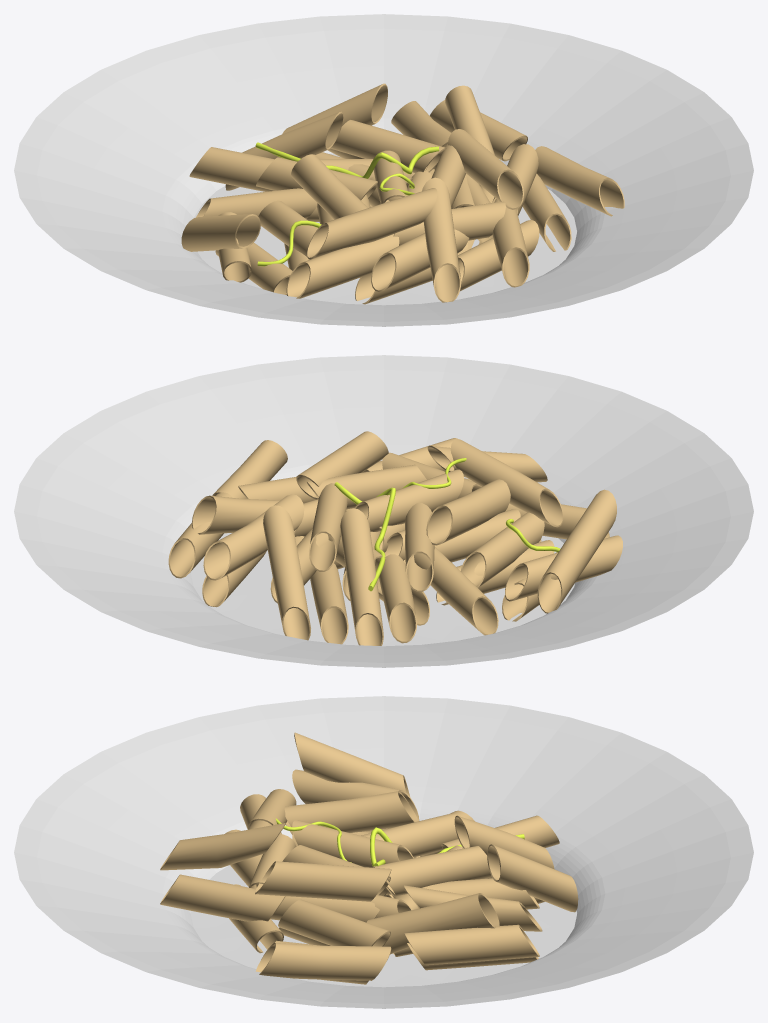
Rendered from Pasta.gltf.
The picture shows the model from 3 angles, top to bottom: view 1: azimuth 30°, elevation 25°; view 2: azimuth 150°, elevation 25°; view 3: azimuth 270°, elevation 25°; orthographic projection.
Visible parts, largest first — view 1: node-0; view 2: node-0; view 3: node-0.
Part boxes in pixels (left/top/right/bottom): node-0: left=14, top=14, right=753, bottom=326; node-0: left=14, top=355, right=753, bottom=667; node-0: left=14, top=696, right=753, bottom=1008.
Size of the model in its own units: 1152 by 172 by 1152.
